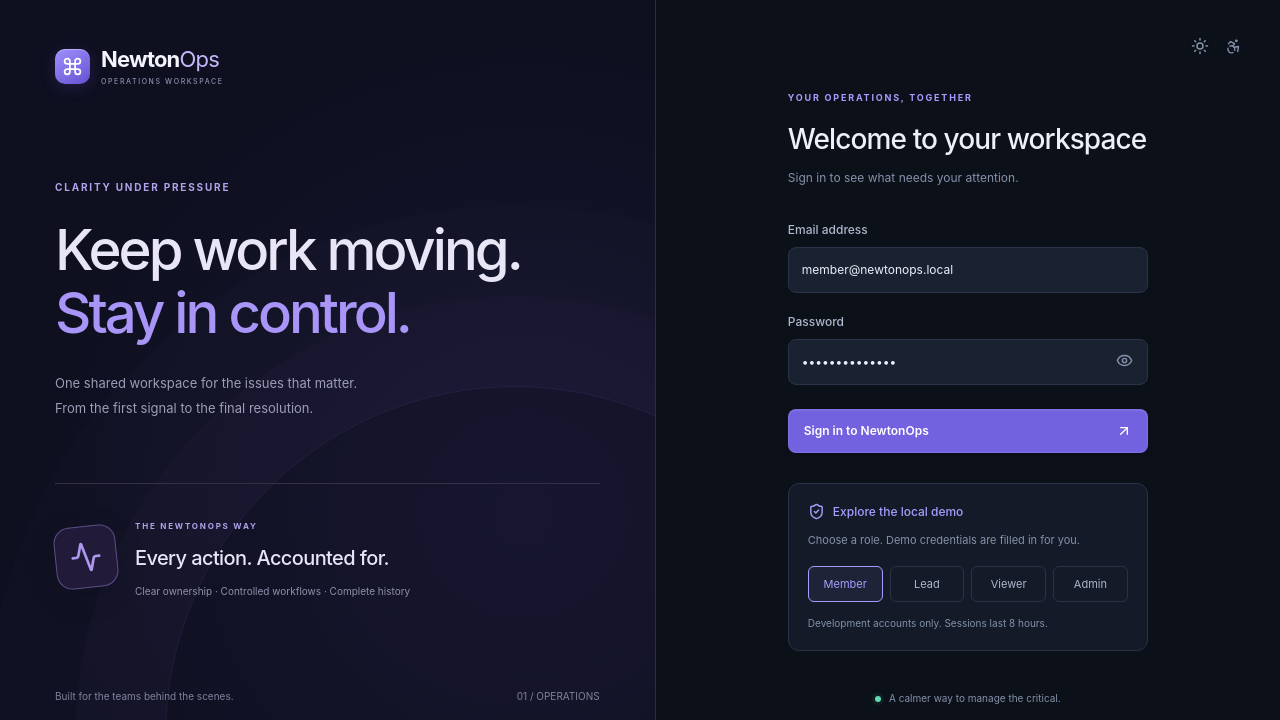
offers accessible password visibility and exclusive demo-role selection
Click the button named "Show password".
click(1124, 360)  # box x1=1108 y1=344 x2=1141 y2=377
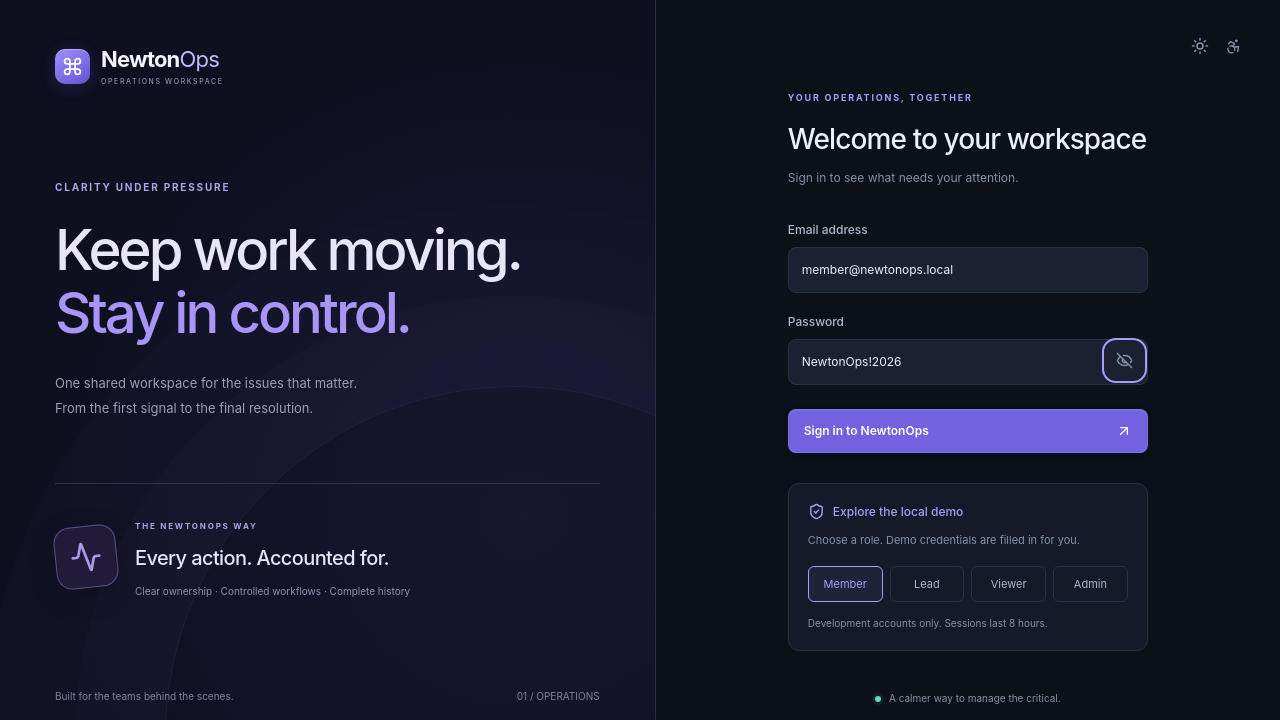
Now the field labelled "Password" shows its text, box x1=788 y1=339 x2=1148 y2=385
Click the button "lead".
click(927, 584)  # box x1=890 y1=566 x2=964 y2=602
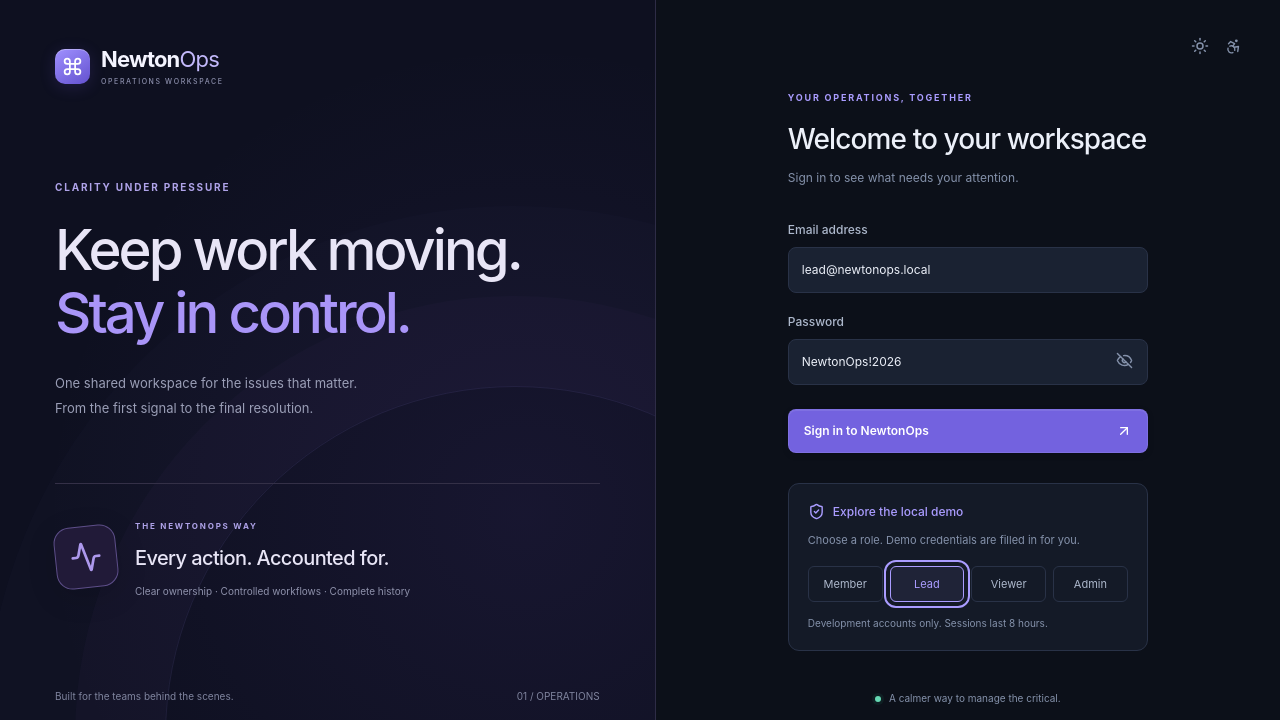
Now the field labelled "Email address" holds "lead@newtonops.local", box x1=788 y1=247 x2=1148 y2=293
